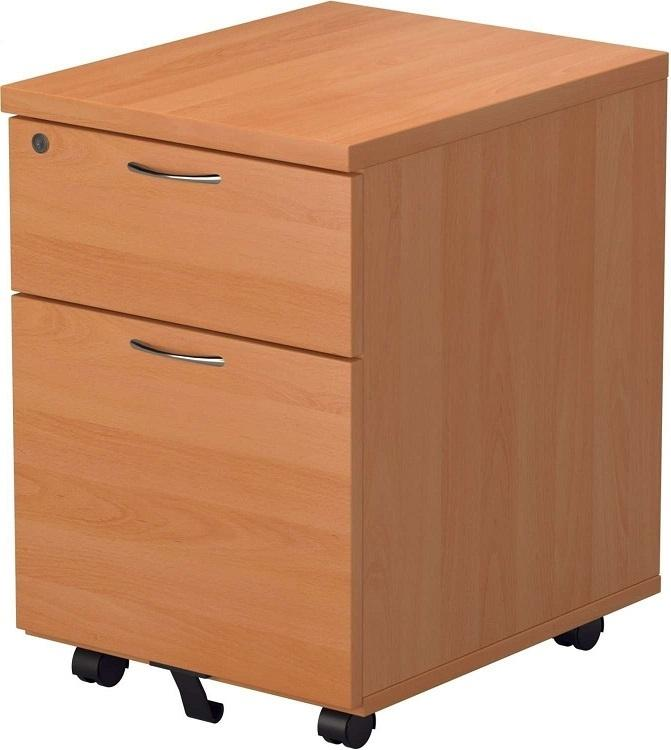cabinet_door: (16, 317, 349, 673), (11, 138, 354, 313)
handle: (130, 331, 228, 380), (126, 155, 226, 194)
